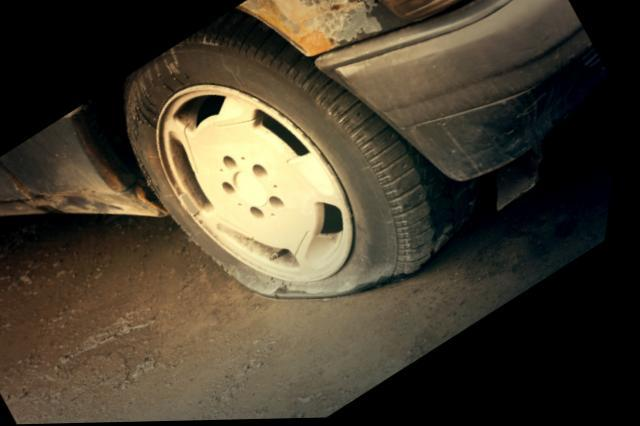tire flat: (127, 10, 479, 302)
